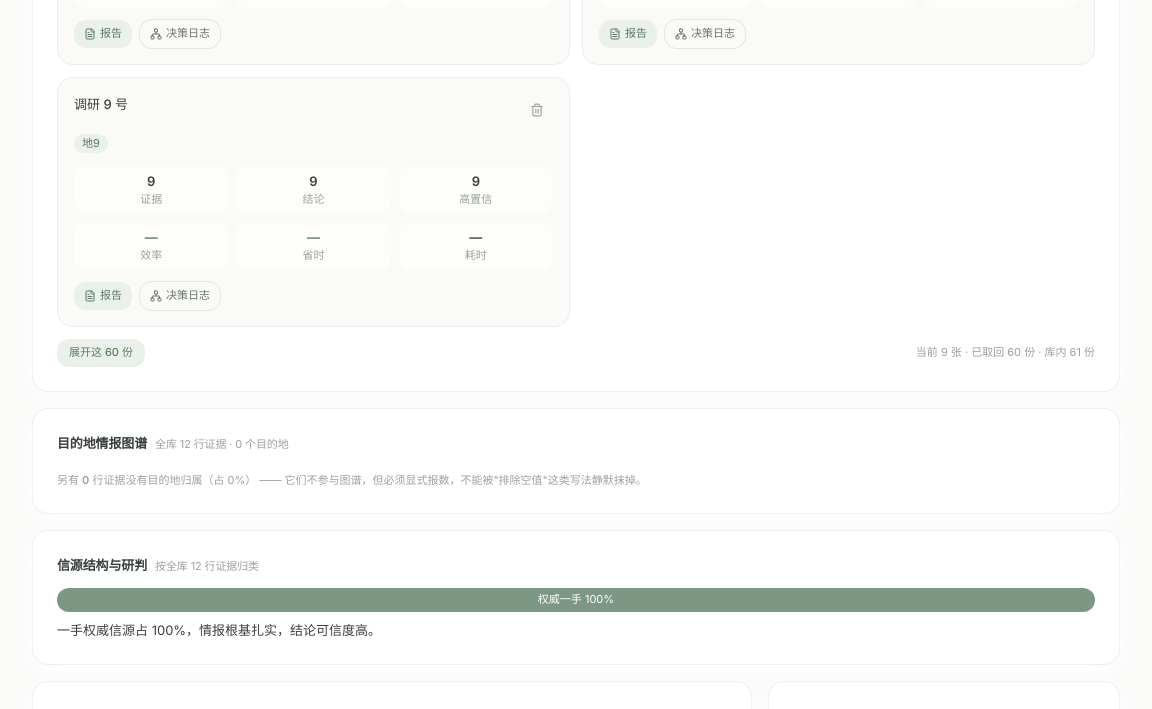
Scenario: 调研屏 · 概览卡默认只画 9 张且把截断写在脸上 › 后端截断（61/60）→ 屏上按钮写「展开这 60 份」，库内总数只在说明与计数行里
(page scrolled)
Expected: the button "展开这 60 份" does not show "61"
Click the button "展开这 60 份" at (101, 352), box [57,338,145,366]
(page scrolled)
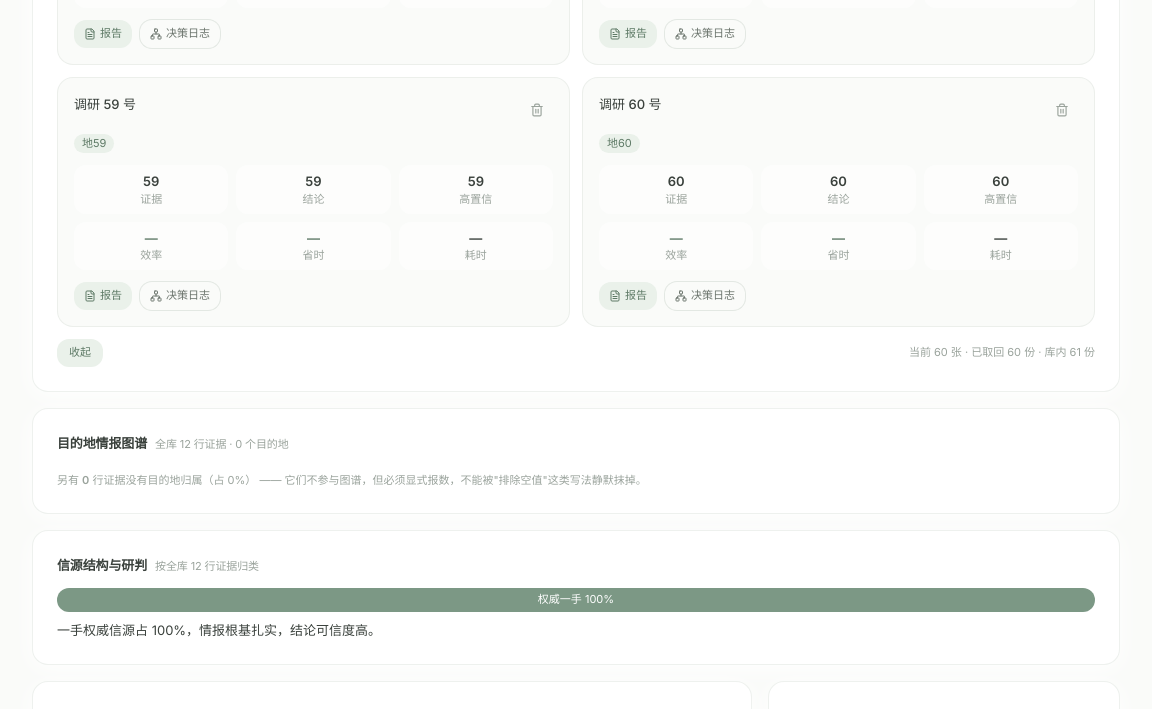
Expected: the text "当前 60 张 · 已取回 60 份 · 库内 61 份" is shown, [909,345,1095,360]
